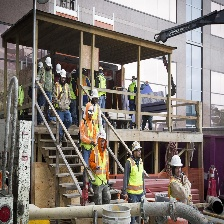helmet: (169, 152, 184, 170), (96, 127, 108, 142), (131, 138, 143, 153), (59, 67, 68, 79), (91, 86, 98, 99), (45, 56, 54, 66)
person: (92, 131, 112, 203), (55, 70, 73, 146), (81, 101, 97, 185), (124, 142, 145, 200), (170, 155, 194, 205), (39, 56, 55, 121)
vest: (93, 147, 109, 184), (131, 157, 142, 192)
